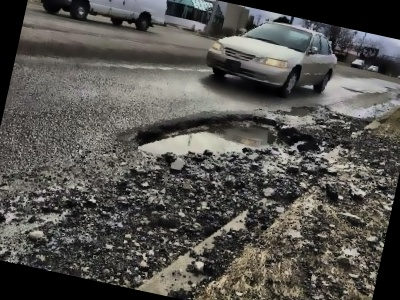pothole: (131, 88, 296, 185), (275, 96, 323, 125)
